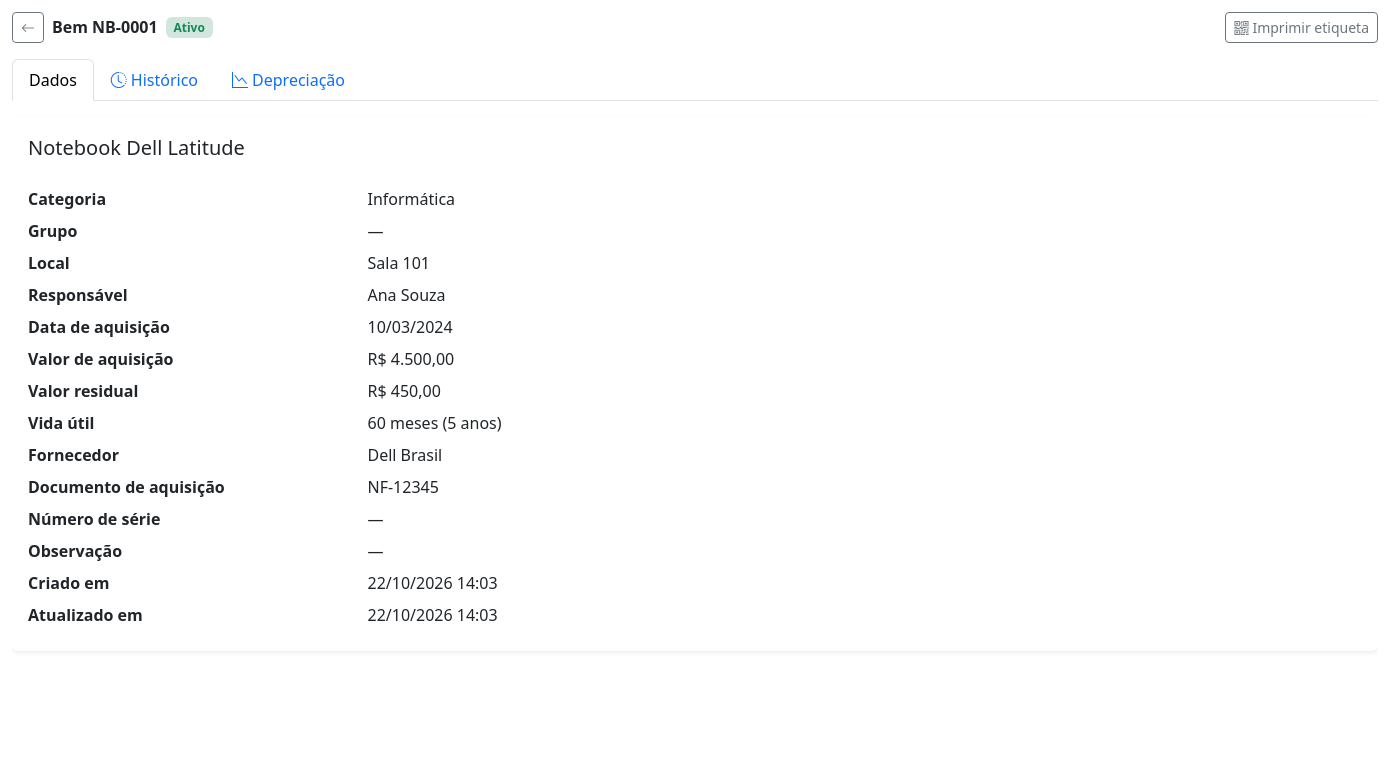
ImobBemDetalheComponent › histórico para leitura › usuário leitura vê a trilha, sem nenhuma ação de escrita
Click the tab with id "abaHistorico": (154, 80) [94,59,215,101]
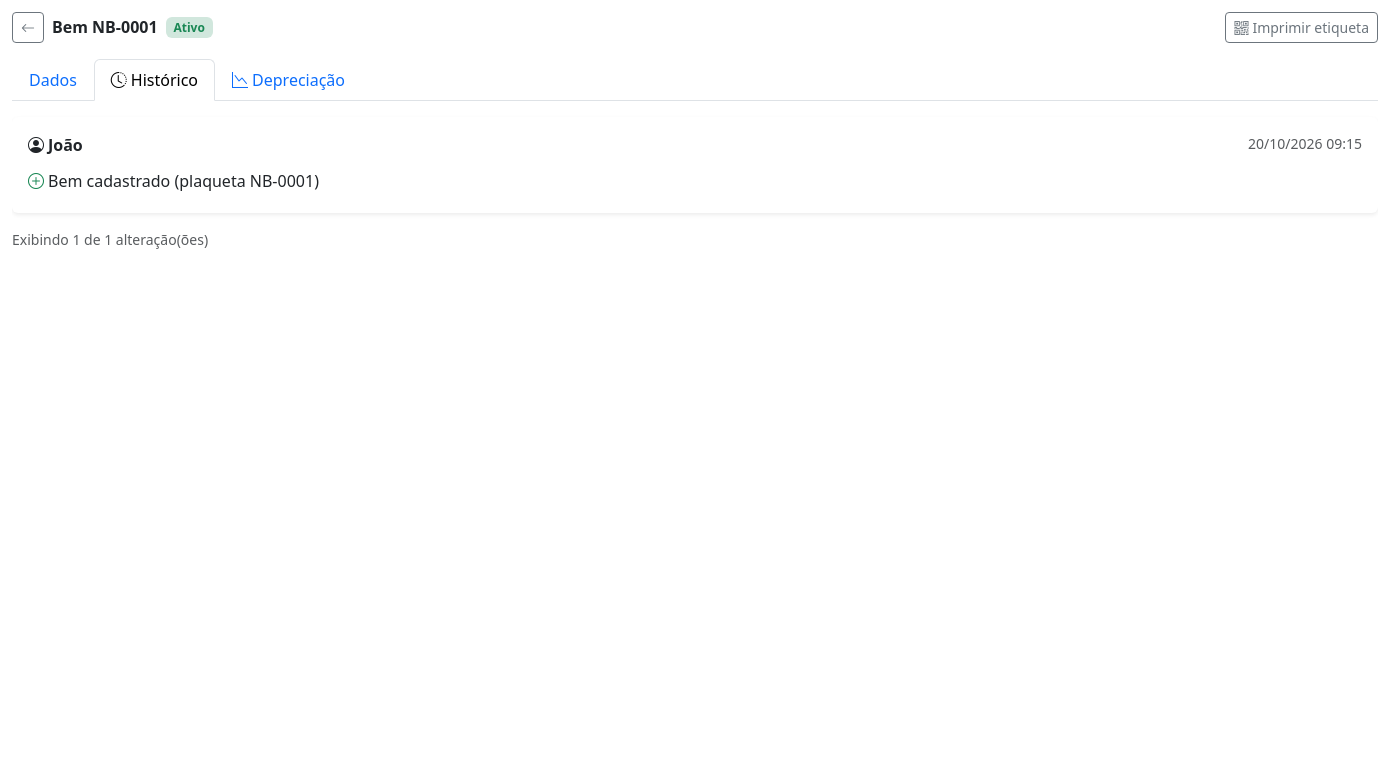
Expected: the text "Bem cadastrado (plaqueta NB-0001)" is shown, [28,170,319,192]
